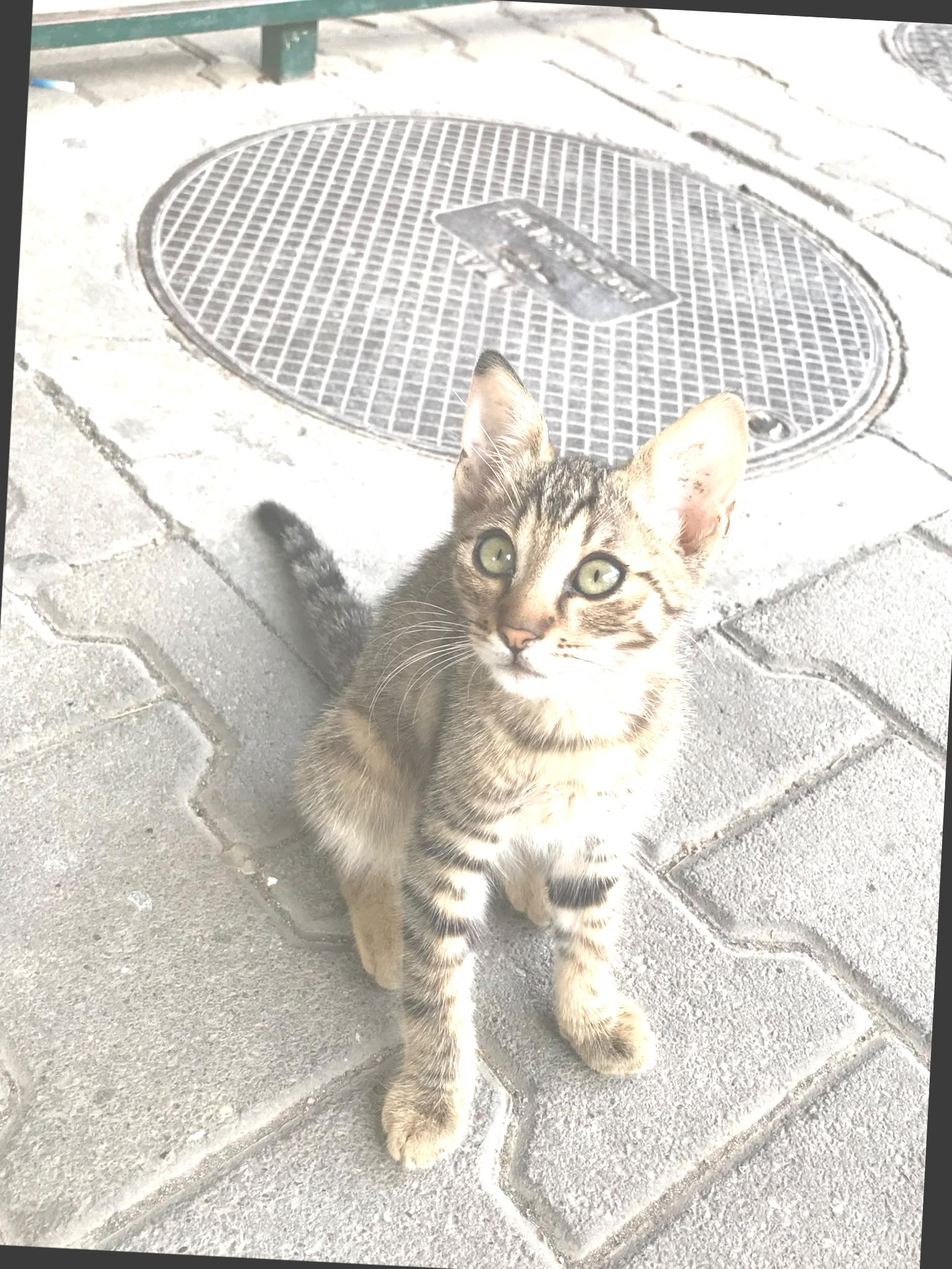macka: (216, 332, 759, 1191)
